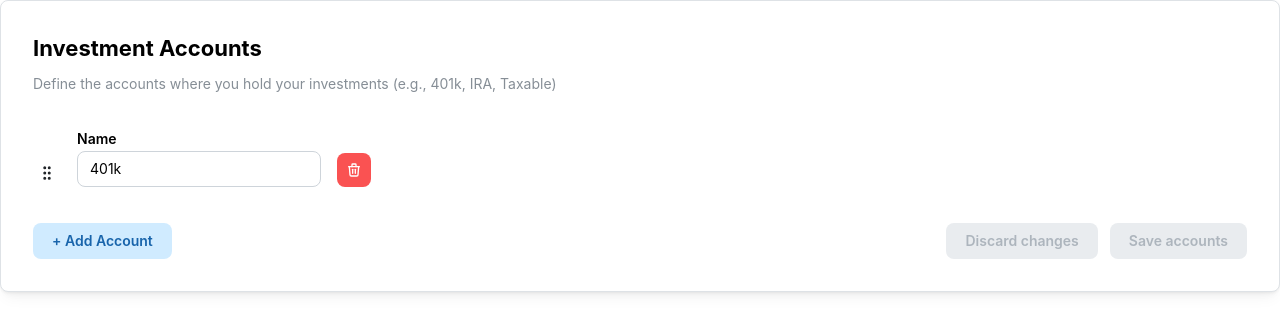
AccountsSettings › discards unsaved changes, such as a deleted account
Expected: the button "Discard changes" is disabled, [946,223,1098,259]
Click the button named "Delete account 401k" at x=354, y=170, box [337,153,371,187]
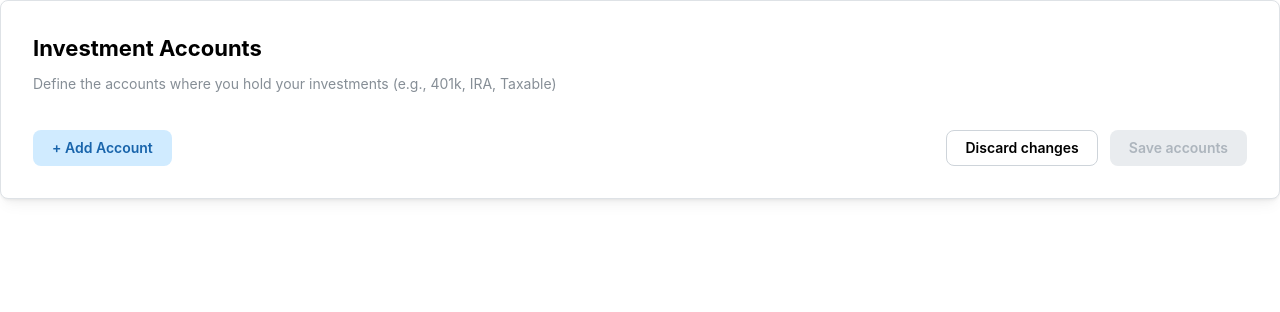
Expected: the label "Name" is gone
Click the button "Discard changes" at x=1022, y=148, box [946,130,1098,166]
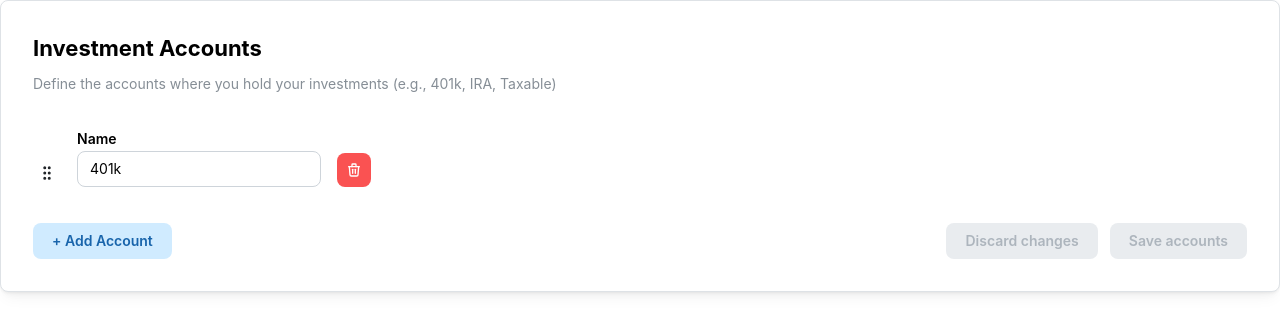
Expected: the button "Save accounts" is disabled, [1110,223,1247,259]
Expected: the field labelled "Name" holds "401k", [77,151,321,187]
Expected: the button "Discard changes" is disabled, [946,223,1098,259]
